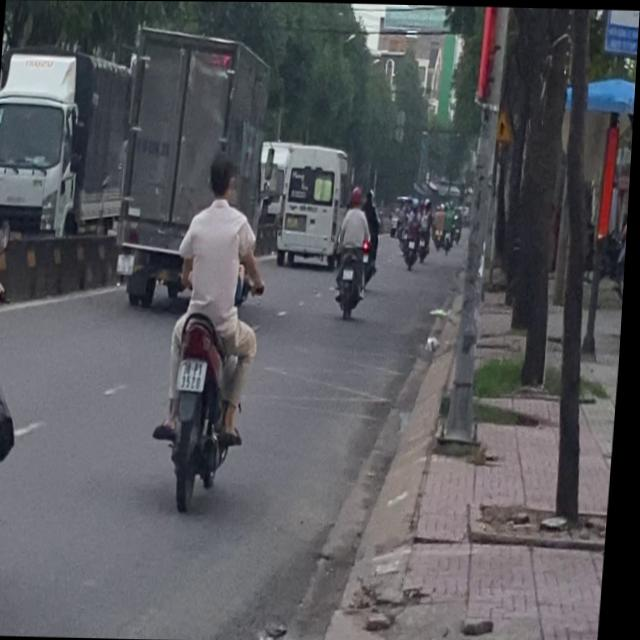licenseplate: (154, 144, 276, 511)
motorcyclist: (207, 148, 240, 202)
nohelmet: (180, 358, 210, 388)
